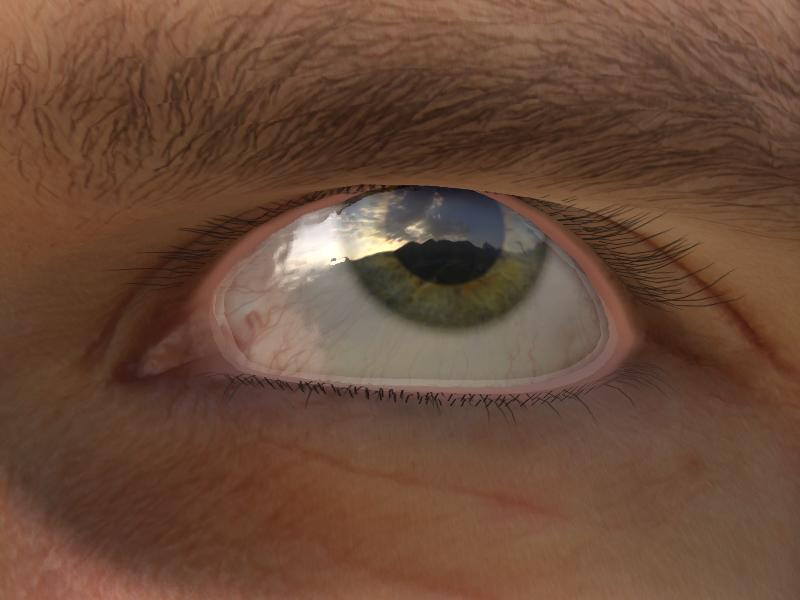eye: (337, 186, 555, 328)
